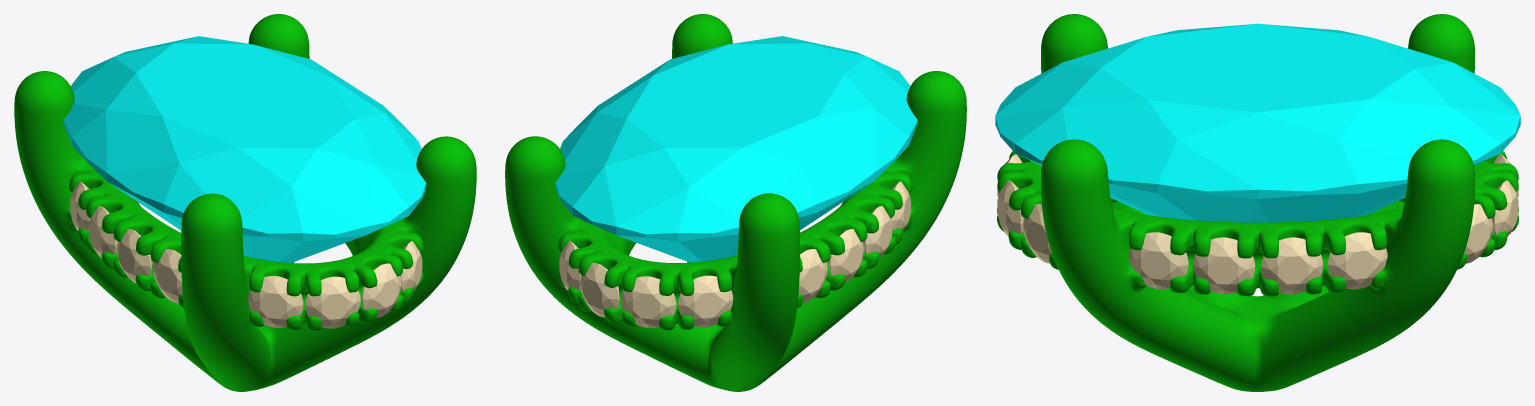
3 views of the same model, side by side, from view 1: azimuth 30°, elevation 25°; view 2: azimuth 150°, elevation 25°; view 3: azimuth 270°, elevation 25° (orthographic). The views are drawn at different scales.
Parts seen in each view (by area): view 1: Diamond_Oval, Metal01, Diamond_Round.014, Diamond_Round.015, Diamond_Round.013, Diamond_Round.007, Diamond_Round.006, Diamond_Round.005, Diamond_Round.012, Diamond_Round.004; view 2: Diamond_Oval, Metal01, Diamond_Round.001, Diamond_Round, Diamond_Round.002, Diamond_Round.004, Diamond_Round.005, Diamond_Round.006, Diamond_Round.003, Diamond_Round.007; view 3: Diamond_Oval, Metal01, Diamond_Round.009, Diamond_Round.010, Diamond_Round.008, Diamond_Round.011, Diamond_Round.012, Diamond_Round.003, Diamond_Round.013, Diamond_Round.002.
Part boxes in pixels (x1,y1,x2,y2): Diamond_Oval: [64, 36, 426, 262]; Metal01: [14, 14, 476, 391]; Diamond_Round.014: [305, 276, 360, 328]; Diamond_Round.015: [248, 276, 303, 327]; Diamond_Round.013: [362, 263, 401, 317]; Diamond_Round.007: [153, 249, 182, 303]; Diamond_Round.006: [117, 229, 152, 283]; Diamond_Round.005: [88, 206, 118, 258]; Diamond_Round.012: [400, 241, 422, 291]; Diamond_Round.004: [70, 181, 90, 230]; Diamond_Oval: [555, 36, 917, 262]; Metal01: [505, 14, 966, 391]; Diamond_Round.001: [621, 276, 676, 328]; Diamond_Round: [678, 275, 733, 327]; Diamond_Round.002: [580, 263, 619, 317]; Diamond_Round.004: [798, 249, 827, 302]; Diamond_Round.005: [828, 229, 863, 282]; Diamond_Round.006: [862, 206, 892, 258]; Diamond_Round.003: [559, 241, 580, 290]; Diamond_Round.007: [890, 181, 910, 230]; Diamond_Oval: [995, 23, 1520, 222]; Metal01: [997, 14, 1518, 391]; Diamond_Round.009: [1193, 237, 1255, 294]; Diamond_Round.010: [1261, 237, 1322, 294]; Diamond_Round.008: [1128, 232, 1188, 289]; Diamond_Round.011: [1327, 232, 1387, 289]; Diamond_Round.012: [1023, 204, 1051, 263]; Diamond_Round.003: [1464, 204, 1492, 263]; Diamond_Round.013: [997, 180, 1023, 236]; Diamond_Round.002: [1492, 180, 1518, 235].
Bounding box in the file's own units: 6.44 × 6.13 × 9.3.
